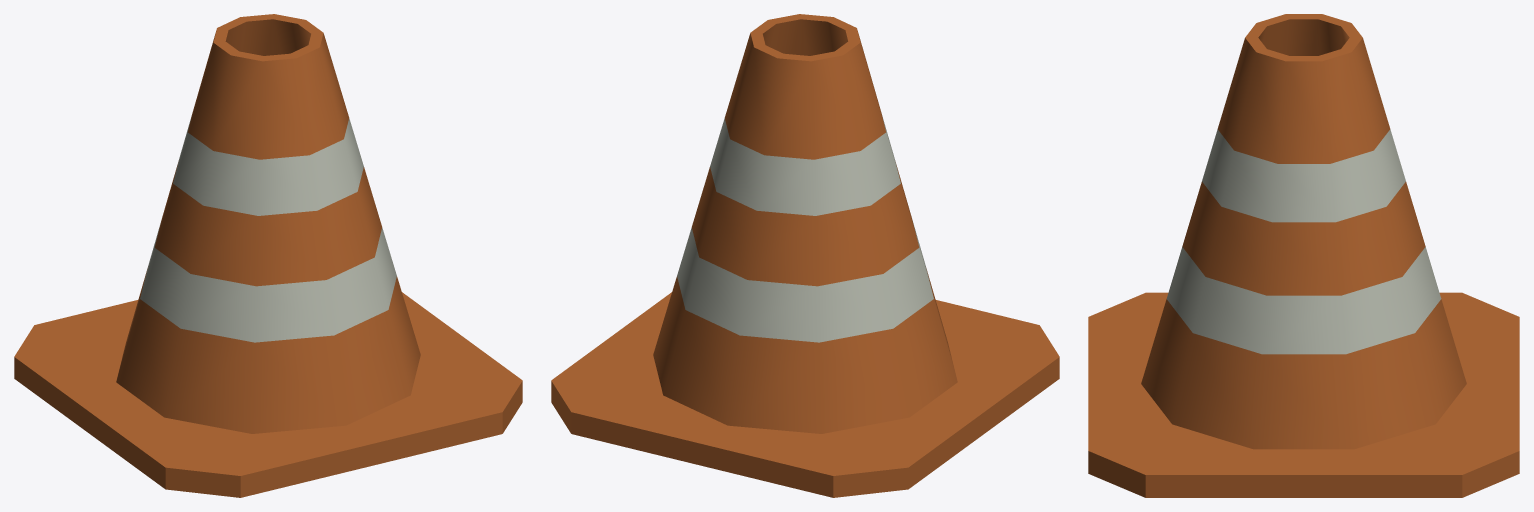
The model's file is Corn.gltf.
3 views of the same model, side by side, from view 1: azimuth 30°, elevation 25°; view 2: azimuth 150°, elevation 25°; view 3: azimuth 270°, elevation 25° (orthographic). The views are drawn at different scales.
Parts seen in each view (by area): view 1: TrafficCone; view 2: TrafficCone; view 3: TrafficCone.
Boxes of the visible parts, bbox=[...] form: TrafficCone: bbox=[14, 14, 522, 497]; TrafficCone: bbox=[551, 14, 1059, 497]; TrafficCone: bbox=[1088, 14, 1519, 497].
Size of the model in its own units: 0.6746 by 0.6367 by 0.6746.
